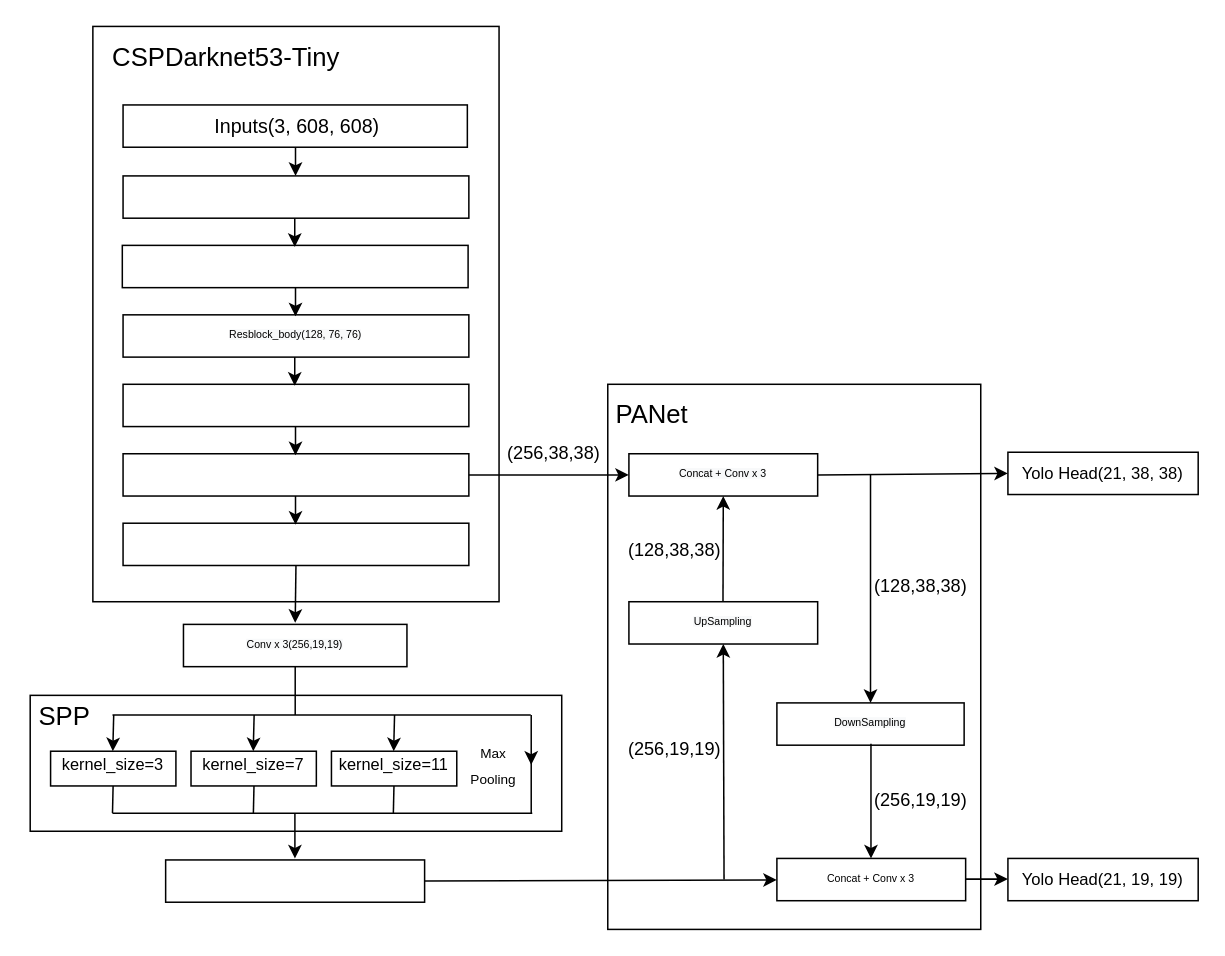
Some shapes in this 1225 by 956 pixel diagram are drawn without their labels. Each missing label, with the centre of its shape:
Concat + Conv x 3(256,19,19): the point at 294,880
DarknetConv2D_BN_Leaky(32, 304, 304): the point at 295,196
DarknetConv2D_BN_Leaky(512, 19, 19): the point at 295,543
DarknetConv2D_BN_Leaky(64, 152, 152): the point at 294,266
Resblock_body(256, 38, 38): the point at 295,405
Resblock_body(512, 19, 19): the point at 295,474
